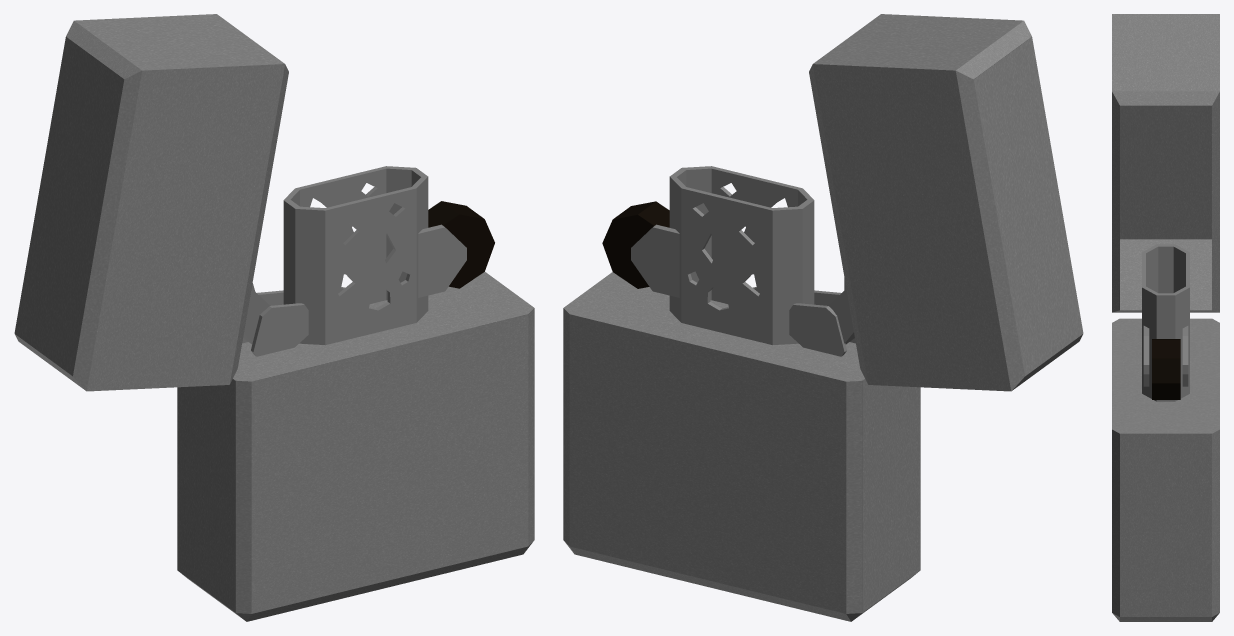
File: Zippo Lighter.fbx
The picture shows the model from 3 angles, left to right: view 1: azimuth 30°, elevation 25°; view 2: azimuth 150°, elevation 25°; view 3: azimuth 270°, elevation 25°; orthographic projection. The views are drawn at different scales.
Visible parts, largest first — view 1: Zippo Lighter, up lighter; view 2: Zippo Lighter, up lighter; view 3: Zippo Lighter, up lighter.
Part boxes in pixels (bbox=[...]): Zippo Lighter: bbox=[177, 166, 534, 621]; up lighter: bbox=[14, 14, 288, 391]; Zippo Lighter: bbox=[563, 166, 920, 621]; up lighter: bbox=[809, 14, 1083, 391]; Zippo Lighter: bbox=[1112, 244, 1219, 621]; up lighter: bbox=[1112, 14, 1219, 312].
Bounding box in the file's own units: 20.38 × 24.54 × 5.23.
3 materials, 1 textured.
